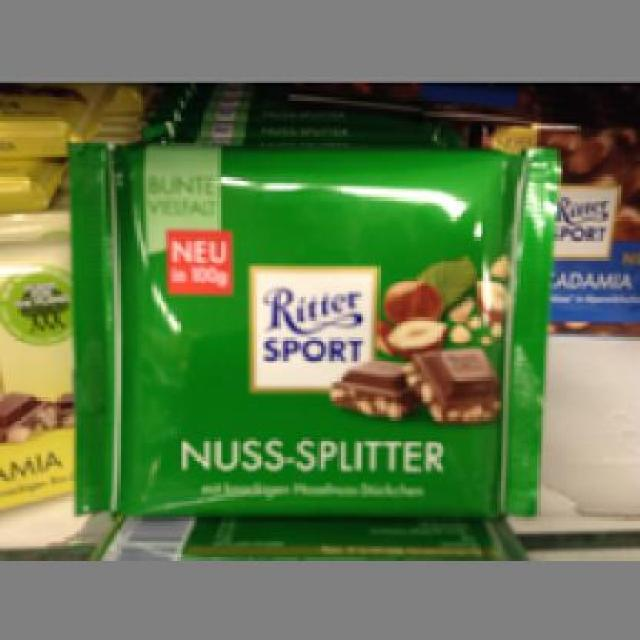Chocolate: (62, 137, 555, 520)
